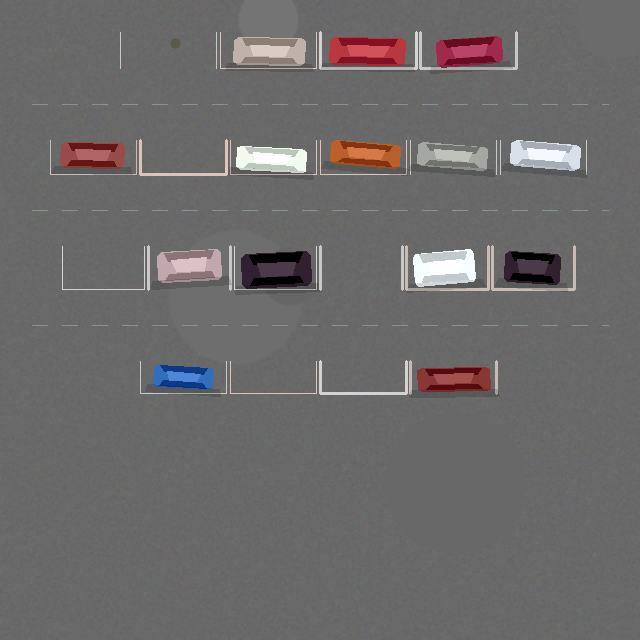space-empty: (62, 246, 144, 289), (320, 246, 402, 289), (120, 32, 216, 68), (140, 140, 226, 174), (230, 361, 316, 393), (320, 361, 406, 393)
space-occupied: (148, 246, 230, 289), (234, 246, 316, 289), (406, 246, 488, 289), (492, 246, 574, 289), (220, 32, 316, 68), (320, 32, 416, 68), (420, 32, 516, 68), (50, 140, 136, 174), (230, 140, 316, 174), (320, 140, 406, 174), (410, 140, 496, 174), (500, 140, 586, 174), (140, 361, 226, 393), (410, 361, 496, 393)
